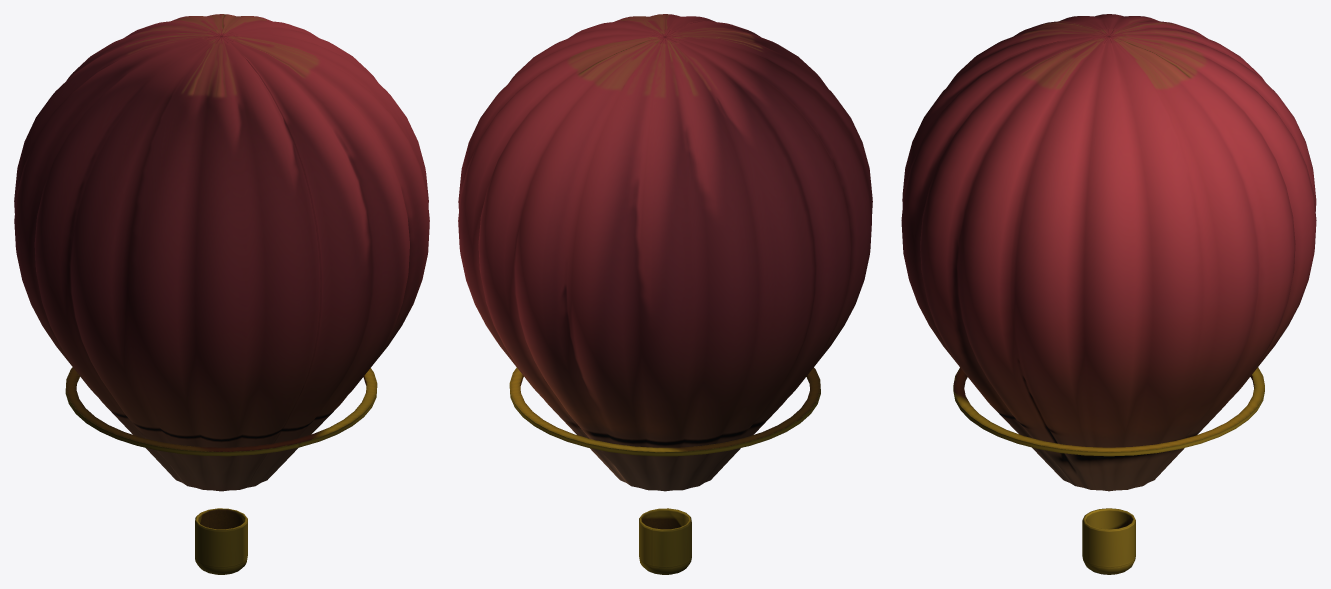
Rendered from balloon.glb.
3 views of the same model, side by side, from view 1: azimuth 30°, elevation 25°; view 2: azimuth 150°, elevation 25°; view 3: azimuth 270°, elevation 25° (orthographic).
Visible parts, largest first — view 1: Balloon; view 2: Balloon; view 3: Balloon.
Boxes of the visible parts, <box> form: Balloon: <box>14,14,429,574</box>; Balloon: <box>458,14,872,574</box>; Balloon: <box>901,14,1316,574</box>.
Bounding box in the file's own units: 466 × 654 × 463.
Materials: 1 (1 with a texture image).
